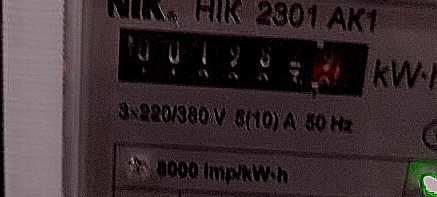0: (165, 36, 182, 65), (135, 33, 151, 62)
1: (197, 36, 209, 65)
2: (287, 39, 305, 68)
8: (257, 40, 273, 68)
9: (318, 45, 338, 73), (226, 39, 241, 68)
screen: (101, 13, 382, 109)
